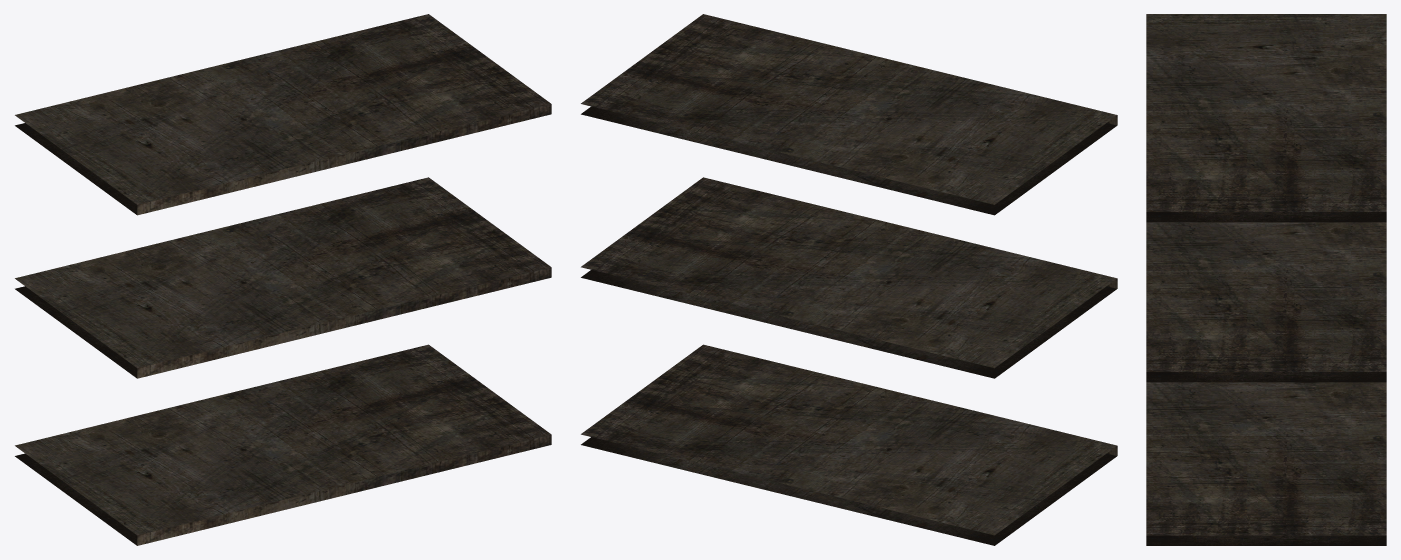
The model's file is cabinet_simple_shelves_empty.DAE.
3 renders of one model, left to right at view 1: azimuth 30°, elevation 25°; view 2: azimuth 150°, elevation 25°; view 3: azimuth 270°, elevation 25°, orthographic. The views are drawn at different scales.
Visible parts, largest first — view 1: Box001; view 2: Box001; view 3: Box001.
Boxes of the visible parts, <box> form: Box001: <box>15,14,551,545</box>; Box001: <box>581,14,1117,545</box>; Box001: <box>1146,14,1386,545</box>.
Bounding box in the file's own units: 1.63 × 1.28 × 0.8351.
